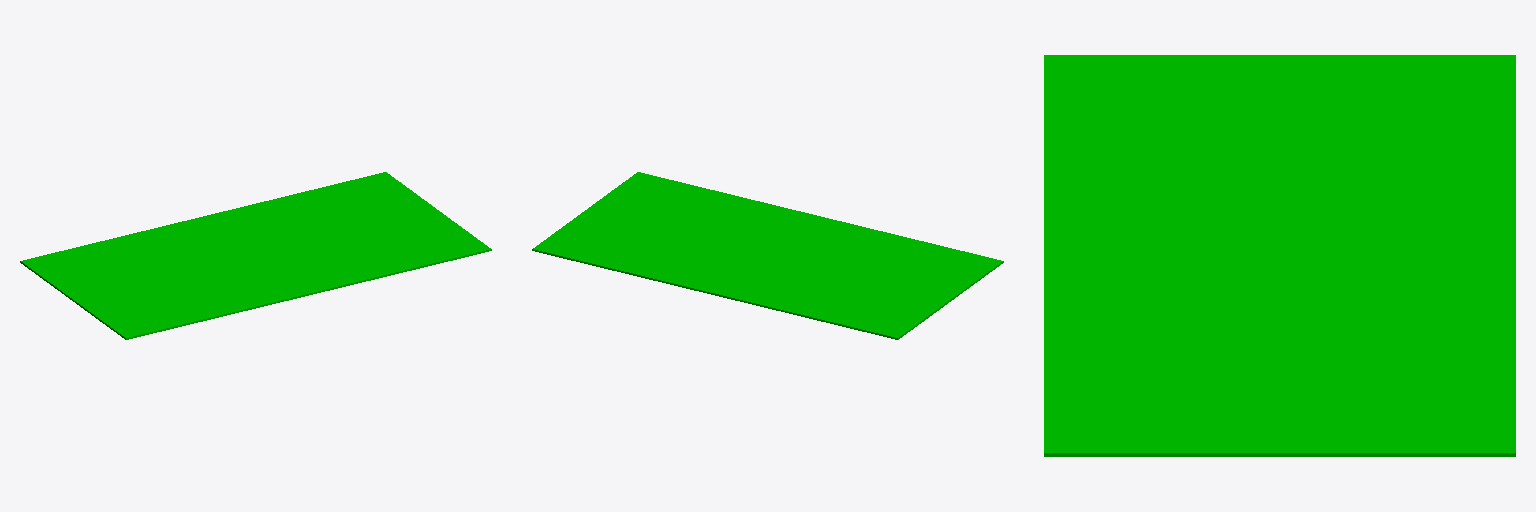
URDF robot description (finish_line):
<?xml version="1.0"?>

<robot name="finish_line">

    <material name="green">
        <color rgba="0 0.8 0 1" />
    </material>

    <link name="finish_line">

        <inertial>
            <origin xyz="0 0 0.1" />
            <mass value="100.0" />
            <inertia ixx="1.0" ixy="0.0" ixz="0.0"
            iyy="1.0" iyz="0.0" izz="1.0" />

        </inertial>
        <visual>        
            <origin xyz="0 0 0.1" />
            <geometry>
                <box size="2 1 0.01" />
            </geometry>
            <material name="green"/>
        </visual>

        <collision>
            <origin xyz="0 0 0.1" />
            <geometry>
                <box size="2 1 0.01" />
            </geometry>
        </collision>
    </link>
</robot>

--- Facts derived from the render (not from the file) ---
Views: 3 orthographic renders of the robot side by side, from view 1: azimuth 30°, elevation 25°; view 2: azimuth 150°, elevation 25°; view 3: azimuth 270°, elevation 25°.
Model finish_line with 1 links and 0 joints (none), rooted at finish_line, posed all joints at 0.
Visible links, largest first — view 1: finish_line; view 2: finish_line; view 3: finish_line.
Link boxes in pixels (left/top/right/bottom): finish_line: left=20, top=172, right=491, bottom=339; finish_line: left=532, top=172, right=1003, bottom=339; finish_line: left=1044, top=55, right=1515, bottom=456.
Bounding box of the posed robot: 2 × 1 × 0.01 m (x, y, z).
Geometry: primitives only (box / cylinder / sphere), no mesh files.
